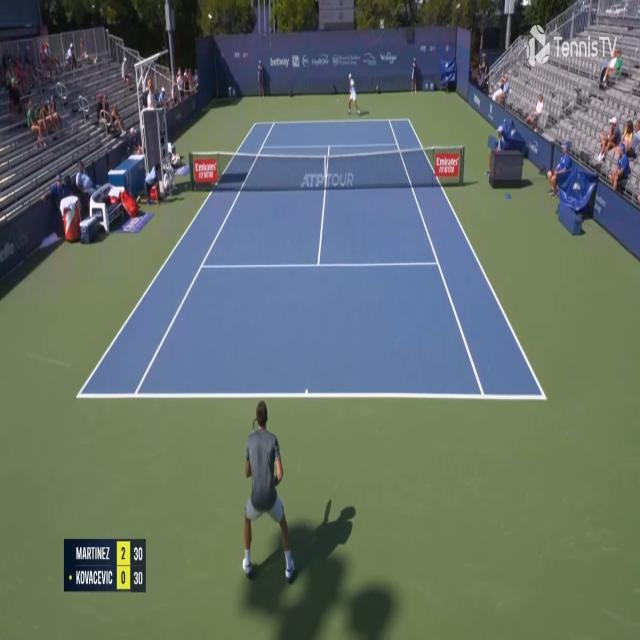tennis-player: (238, 394, 301, 586), (346, 75, 361, 116)
